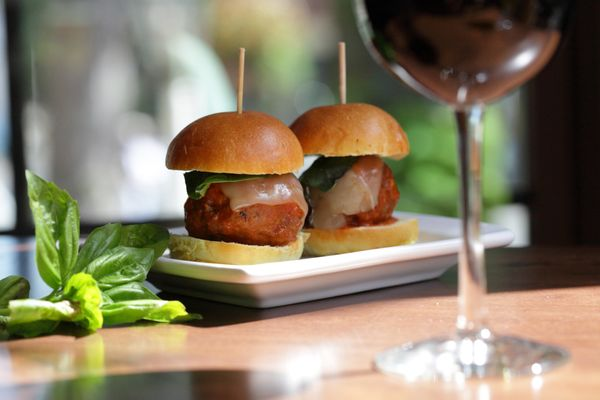soup: (164, 110, 311, 264), (289, 100, 418, 253)
